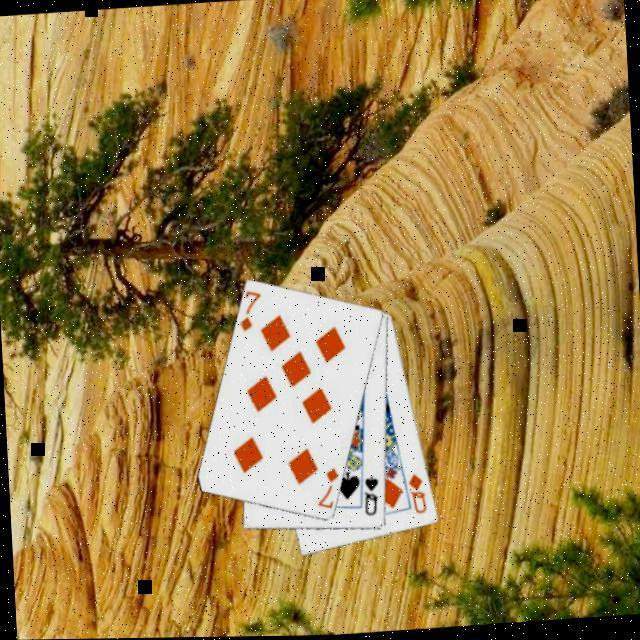7D: (234, 290, 264, 338), (310, 468, 340, 514)
QD: (403, 473, 428, 520)
QS: (358, 475, 381, 522)
